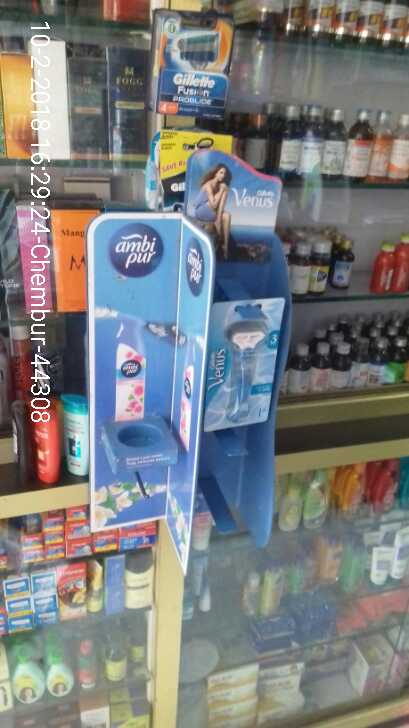venus: (199, 296, 281, 435)
